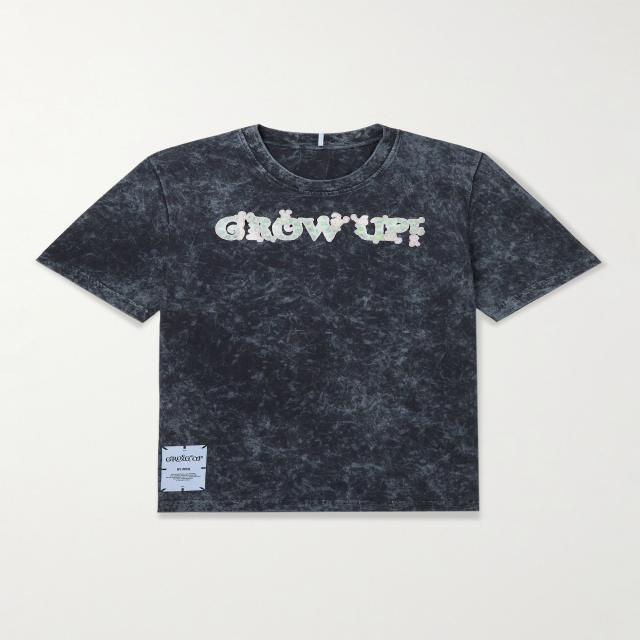tshirt: (36, 120, 601, 514)
